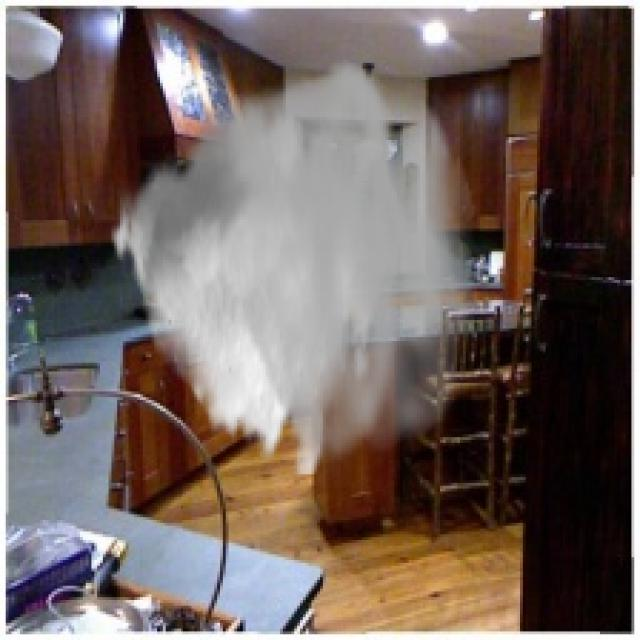smoke: (109, 54, 477, 474)
